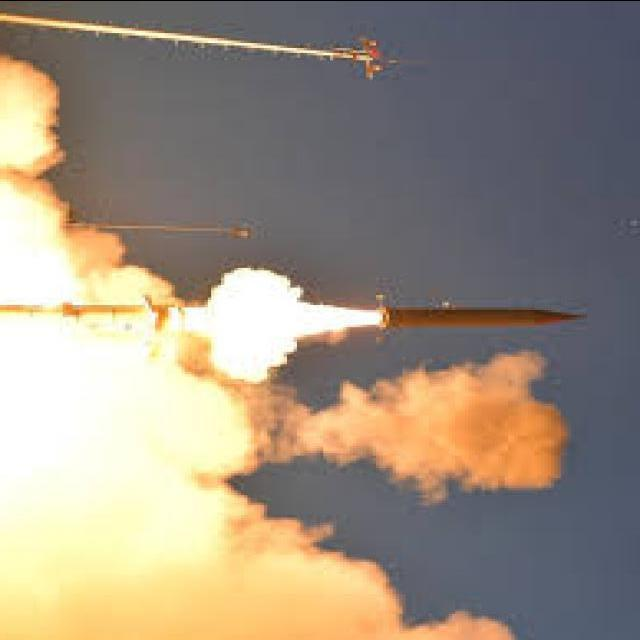Missile: (381, 301, 588, 337)
